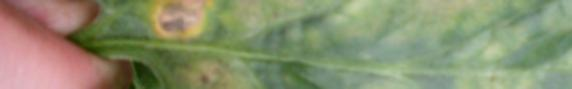Tomato mold leaf: (103, 0, 572, 89)
